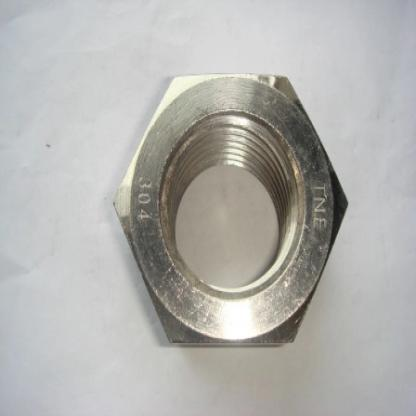FOD: (104, 41, 362, 363)
